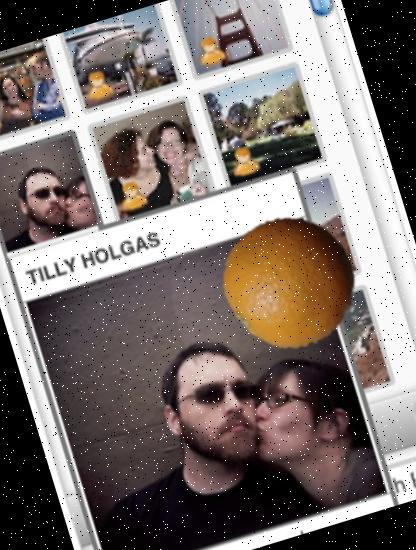Orange: (206, 197, 376, 367)
